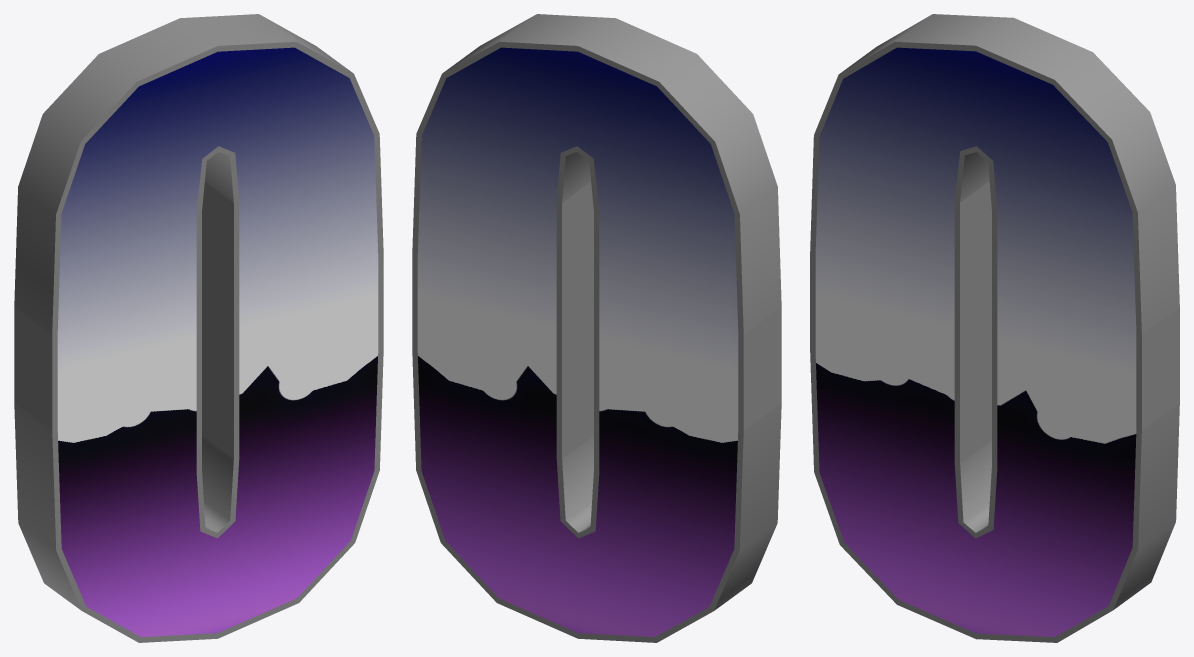
The picture shows the model from 3 angles, left to right: view 1: azimuth 30°, elevation 25°; view 2: azimuth 150°, elevation 25°; view 3: azimuth 330°, elevation 25°; orthographic projection.
Parts seen in each view (by area): view 1: O, O_outline; view 2: O, O_outline; view 3: O, O_outline.
Part boxes in pixels (<box>): O: <box>57,47,378,637</box>; O_outline: <box>14,14,383,642</box>; O: <box>417,47,738,637</box>; O_outline: <box>412,14,781,642</box>; O: <box>815,47,1136,637</box>; O_outline: <box>810,14,1179,642</box>.
Bounding box in the file's own units: 60.5 × 103 × 12.
Materials: 2 (1 with a texture image).
